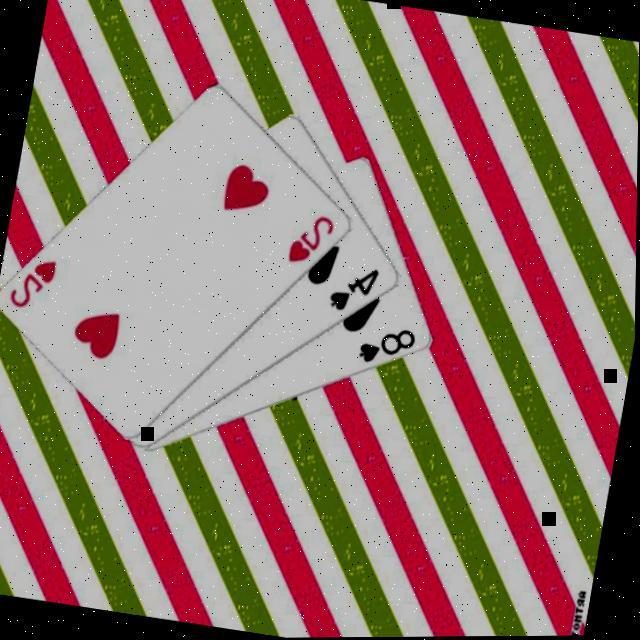2H: (5, 250, 60, 314), (283, 207, 338, 270)
4S: (324, 260, 382, 318)
8S: (353, 318, 420, 372)
